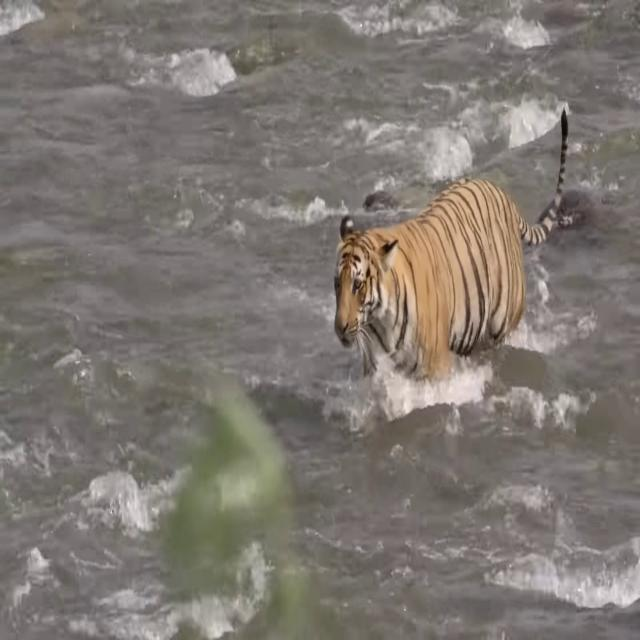tiger: (334, 105, 569, 378)
